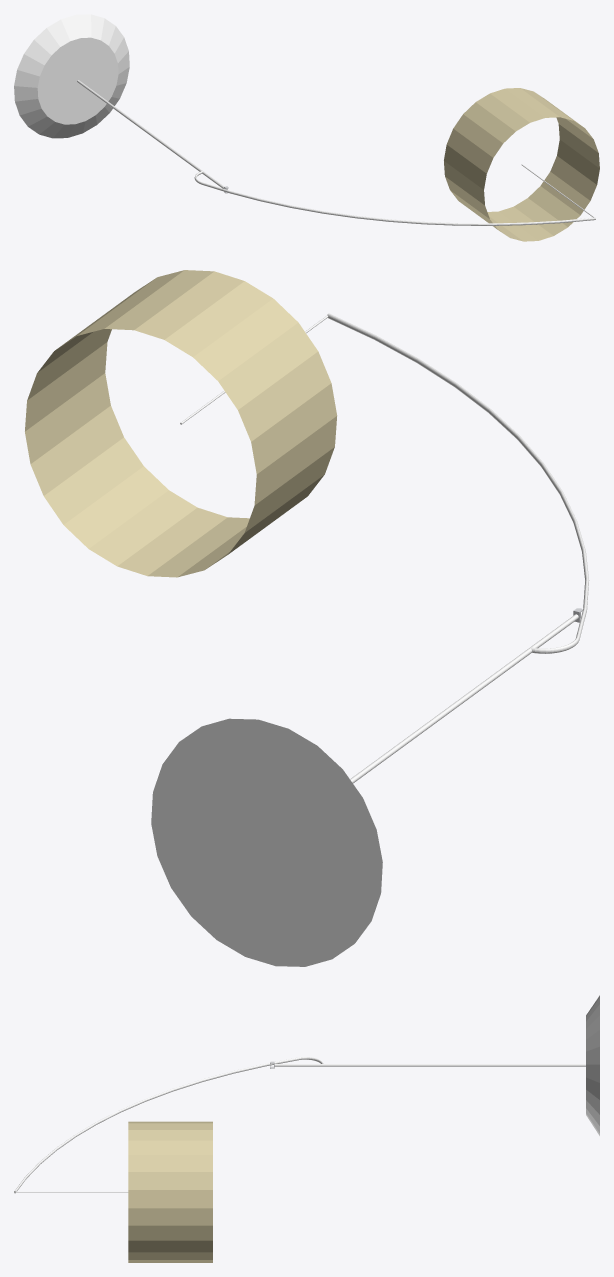
3 renders of one model, top to bottom at view 1: azimuth 30°, elevation 25°; view 2: azimuth 150°, elevation 25°; view 3: azimuth 270°, elevation 25°, orthographic. The views are drawn at different scales.
Visible parts, largest first — view 1: lamp; view 2: lamp; view 3: lamp.
Boxes of the visible parts, x1,y1,x2,y2 form: lamp: [14, 14, 599, 241]; lamp: [25, 270, 589, 966]; lamp: [14, 995, 599, 1262].
Size of the model in its own units: 61.42 by 19.72 by 81.53.
